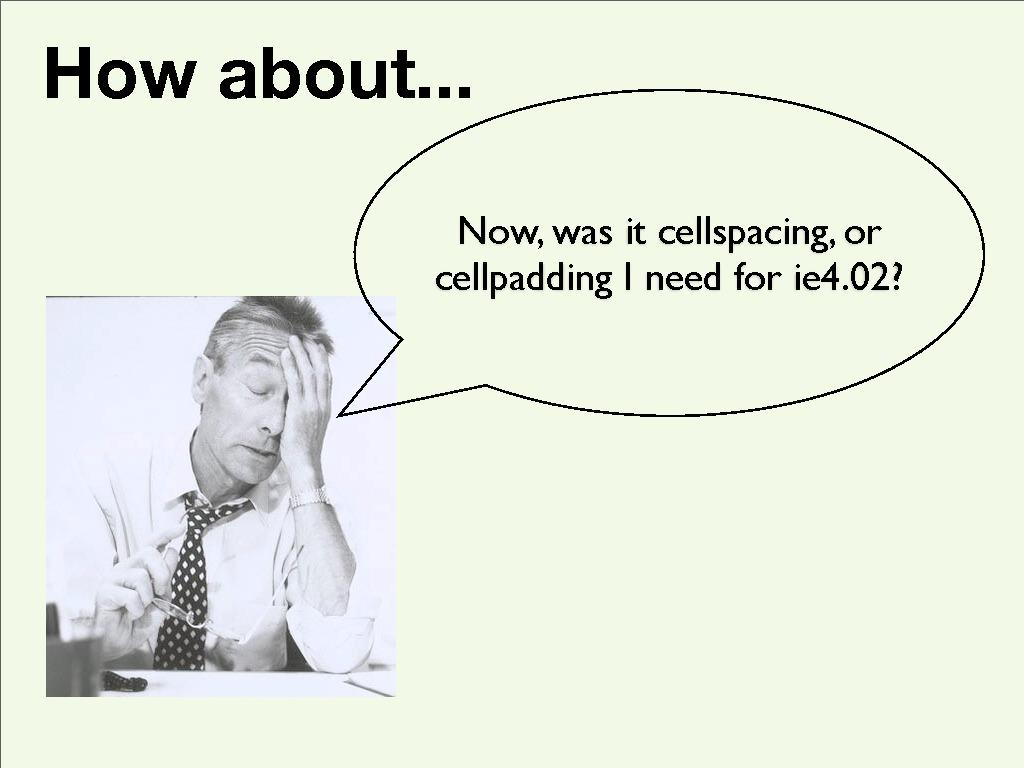title: (33, 25, 499, 120)
